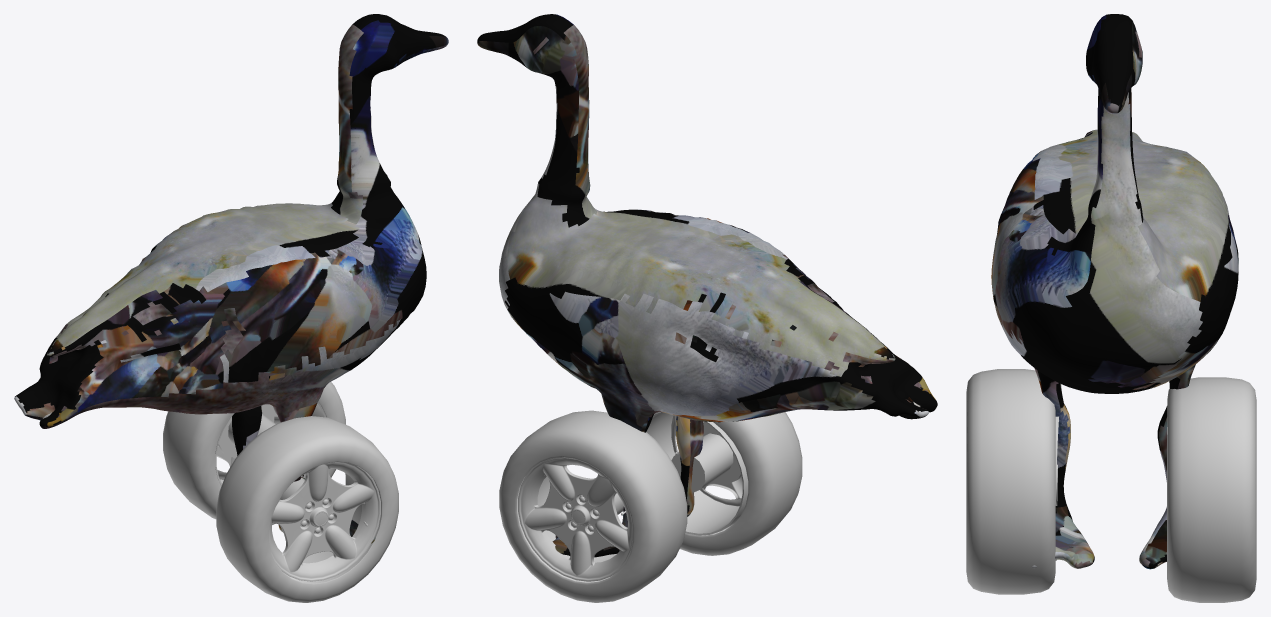
Rendered from Canadian_Goose_with_w_0914213007_preview.fbx.
The picture shows the model from 3 angles, left to right: view 1: azimuth 30°, elevation 25°; view 2: azimuth 150°, elevation 25°; view 3: azimuth 270°, elevation 25°; orthographic projection. The views are drawn at different scales.
Visible parts, largest first — view 1: mesh, Tire_Tire_0.002, Rim_Rim_0.001, Tire_Tire_0.001, Rim_Rim_0; view 2: mesh, Tire_Tire_0.001, Rim_Rim_0, Tire_Tire_0.002, Rim_Rim_0.001; view 3: mesh, Tire_Tire_0.001, Tire_Tire_0.002.
Boxes of the visible parts, left/top/right/bottom form: mesh: left=14, top=14, right=448, bottom=543; Tire_Tire_0.002: left=216, top=416, right=398, bottom=602; Rim_Rim_0.001: left=269, top=462, right=380, bottom=581; Tire_Tire_0.001: left=163, top=382, right=345, bottom=524; Rim_Rim_0: left=215, top=402, right=325, bottom=485; mesh: left=477, top=14, right=937, bottom=557; Tire_Tire_0.001: left=499, top=410, right=687, bottom=602; Rim_Rim_0: left=518, top=457, right=633, bottom=581; Tire_Tire_0.002: left=654, top=411, right=802, bottom=555; Rim_Rim_0.001: left=646, top=412, right=748, bottom=535; mesh: left=991, top=14, right=1238, bottom=569; Tire_Tire_0.001: left=1167, top=377, right=1256, bottom=602; Tire_Tire_0.002: left=966, top=369, right=1055, bottom=594.
Bounding box in the file's own units: 628 × 723 × 301.
